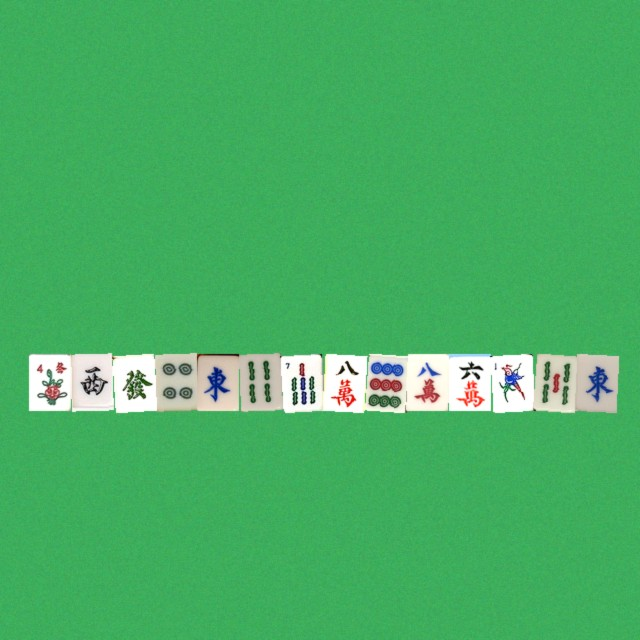tile: (28, 353, 70, 410), (70, 353, 112, 410), (112, 353, 154, 410), (154, 353, 196, 410), (196, 353, 238, 410), (238, 353, 280, 410), (280, 353, 322, 410), (322, 353, 364, 410), (364, 353, 406, 410), (406, 353, 448, 410), (448, 353, 490, 410), (490, 353, 532, 410), (532, 353, 574, 410), (574, 353, 616, 410)
